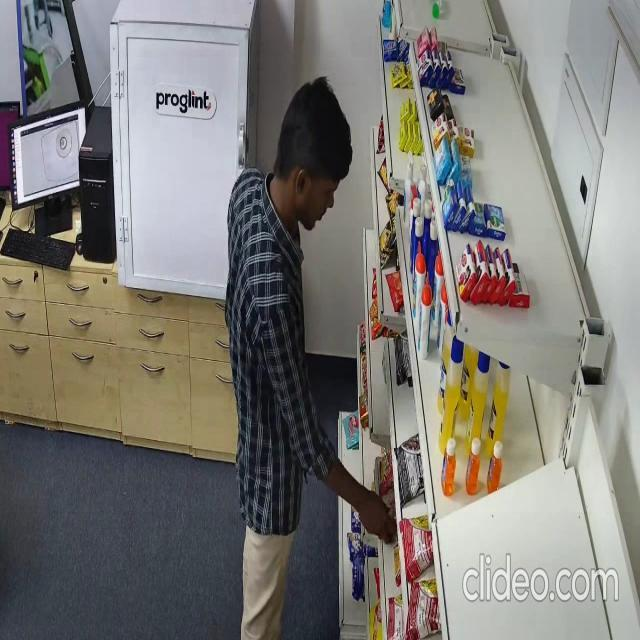normal: (226, 74, 399, 640)
